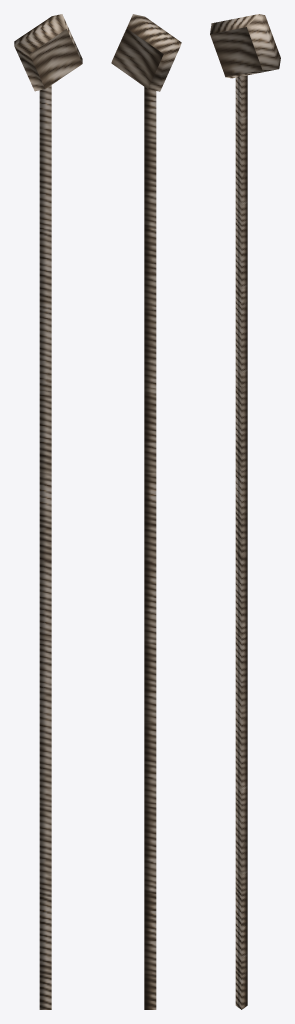
File: trellis_string.fbx
The picture shows the model from 3 angles, left to right: view 1: azimuth 30°, elevation 25°; view 2: azimuth 150°, elevation 25°; view 3: azimuth 330°, elevation 25°; orthographic projection.
Parts seen in each view (by area): view 1: trellis_string; view 2: trellis_string; view 3: trellis_string.
Boxes of the visible parts, x1,y1,x2,y2 form: trellis_string: (14, 14, 82, 1009); trellis_string: (111, 14, 181, 1009); trellis_string: (210, 14, 280, 1009).
Bounding box in the file's own units: 11.27 × 157 × 4.93.
